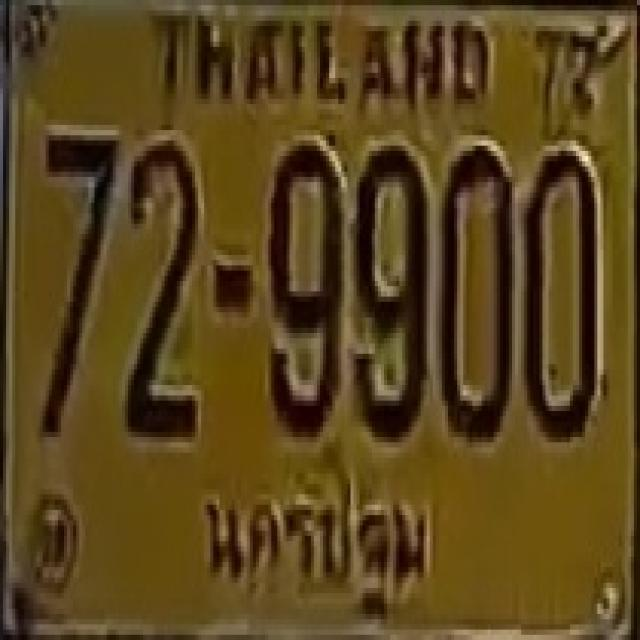0: (439, 141, 512, 437), (522, 146, 596, 437)
2: (122, 135, 195, 432)
7: (40, 128, 116, 434)
9: (352, 141, 425, 437), (268, 140, 342, 432)
NPT: (191, 470, 444, 625)
